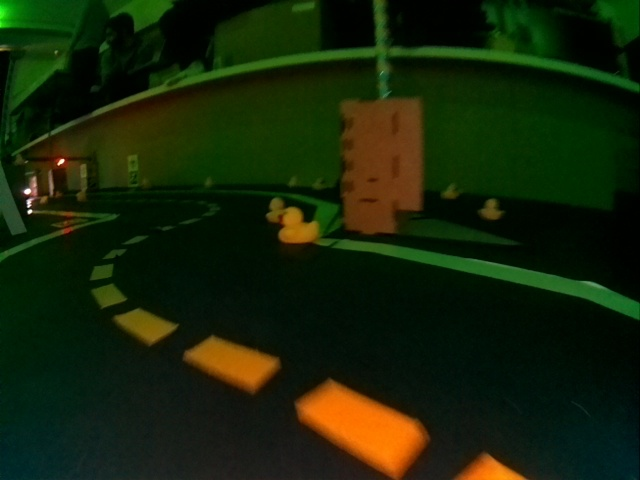Duckie: (280, 209, 319, 239), (267, 197, 288, 224), (478, 199, 503, 220), (441, 184, 459, 199), (313, 178, 322, 188), (204, 178, 212, 187), (290, 176, 297, 186), (141, 179, 149, 186)
Intersection sign: (128, 156, 137, 168)
QR code: (129, 171, 139, 185)
Traffic light: (55, 158, 65, 165)
